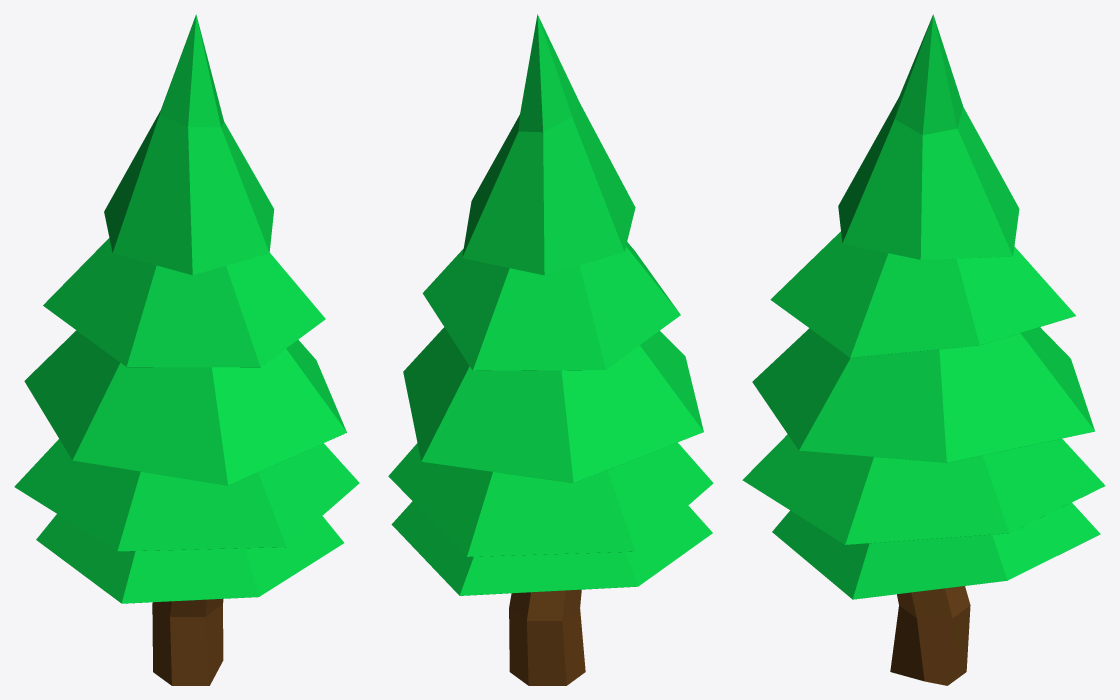
Rendered from Tree_2.fbx.
3 renders of one model, left to right at view 1: azimuth 30°, elevation 25°; view 2: azimuth 150°, elevation 25°; view 3: azimuth 270°, elevation 25°, orthographic.
Parts seen in each view (by area): view 1: Circle.001; view 2: Circle.001; view 3: Circle.001.
Part boxes in pixels (x1,y1,x2,y2): Circle.001: [14, 14, 359, 685]; Circle.001: [388, 14, 713, 685]; Circle.001: [742, 14, 1105, 685].
Bounding box in the file's own units: 538 × 1239 × 617.
